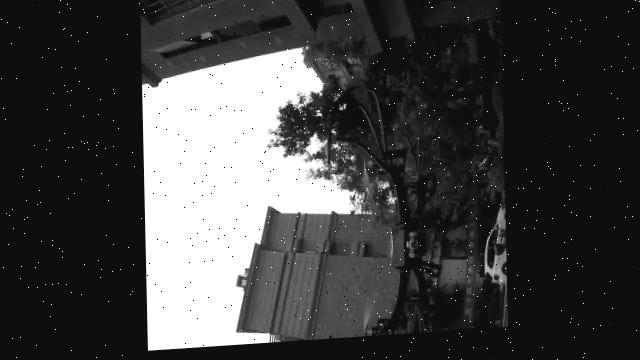drone: (309, 59, 451, 344)
